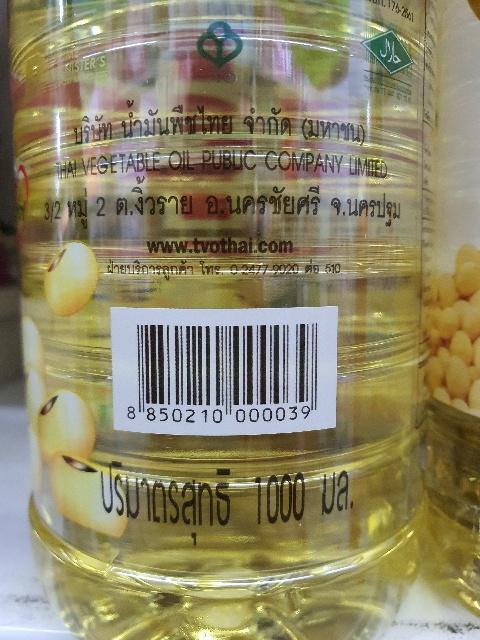Barcode: (111, 308, 335, 427)
